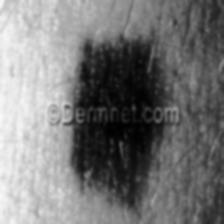Potentially Malignant Skin Tumors: (74, 36, 154, 207)
